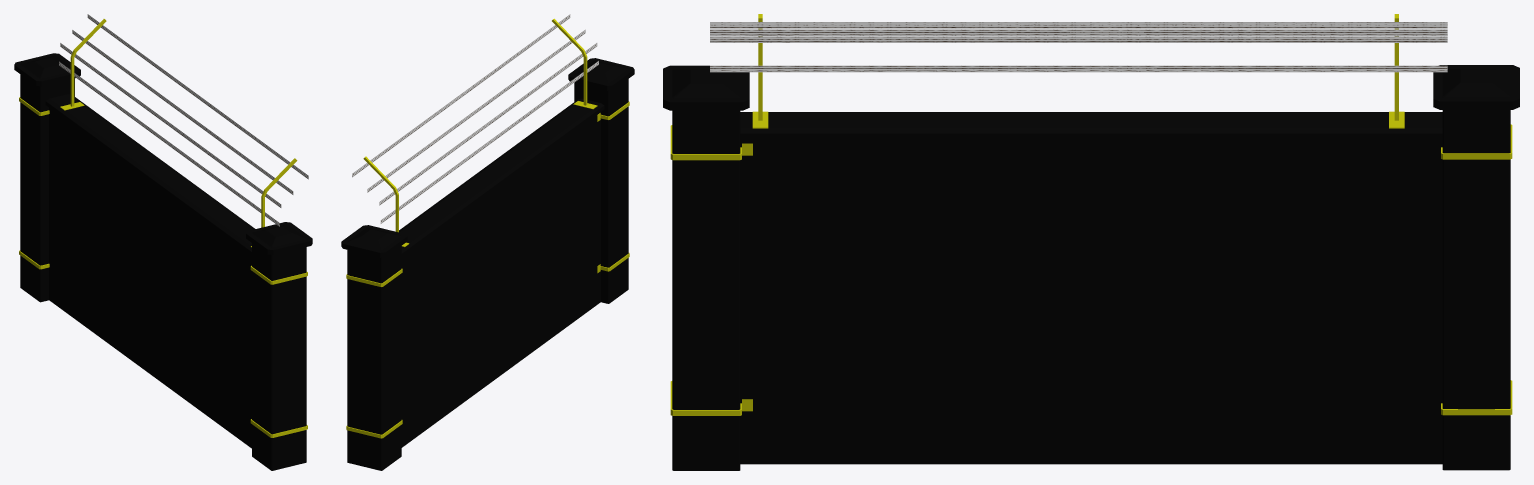
The model's file is Wall_Single_DoublePost.fbx.
3 renders of one model, left to right at view 1: azimuth 30°, elevation 25°; view 2: azimuth 150°, elevation 25°; view 3: azimuth 270°, elevation 25°, orthographic. The views are drawn at different scales.
Visible parts, largest first — view 1: Wall_DoublePost; view 2: Wall_DoublePost; view 3: Wall_DoublePost.
Part boxes in pixels (x1,y1,x2,y2): Wall_DoublePost: [14, 14, 312, 470]; Wall_DoublePost: [341, 14, 634, 470]; Wall_DoublePost: [663, 14, 1519, 470].
Size of the model in its own units: 0.8928 by 4.21 by 6.97.
